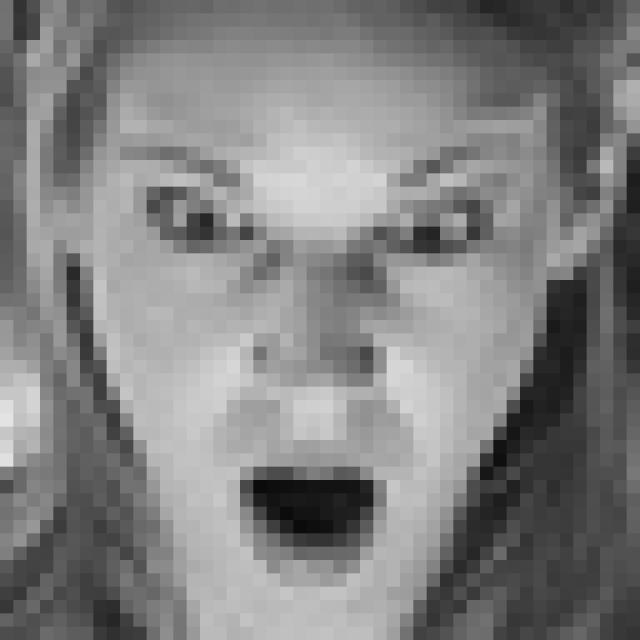surprise: (84, 126, 542, 600)
